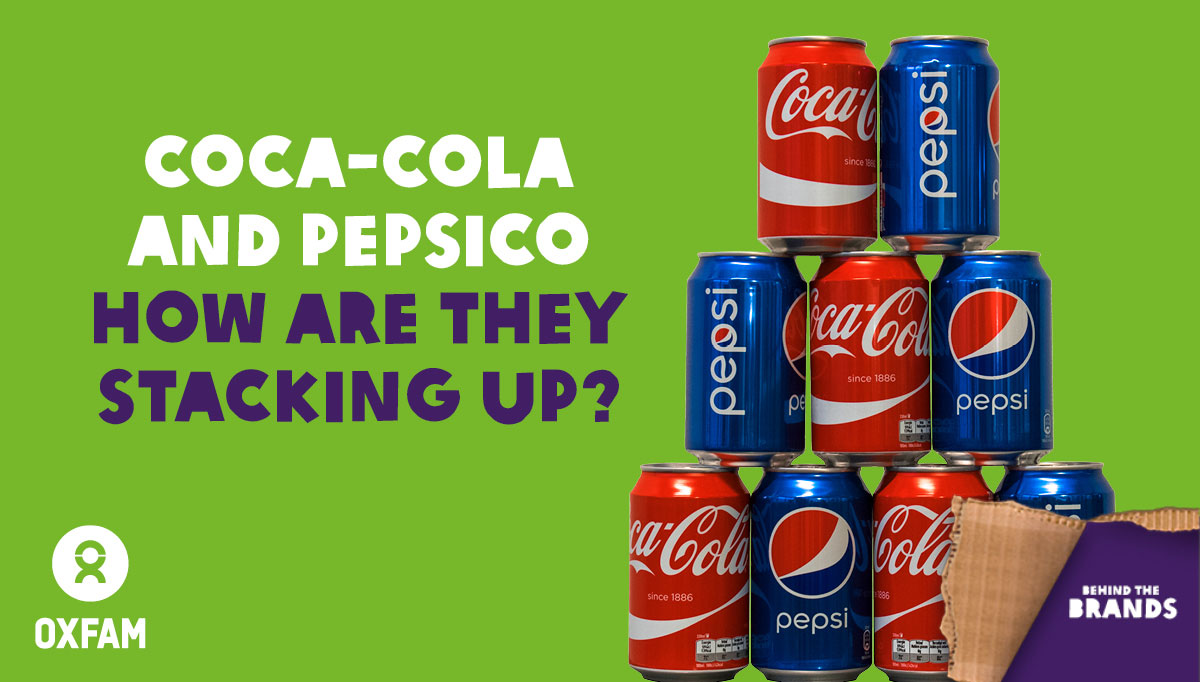pepsi: (947, 281, 1034, 380), (947, 281, 1030, 380), (949, 281, 1030, 380), (766, 507, 852, 596), (775, 507, 852, 596), (922, 105, 944, 130), (713, 323, 733, 347)
